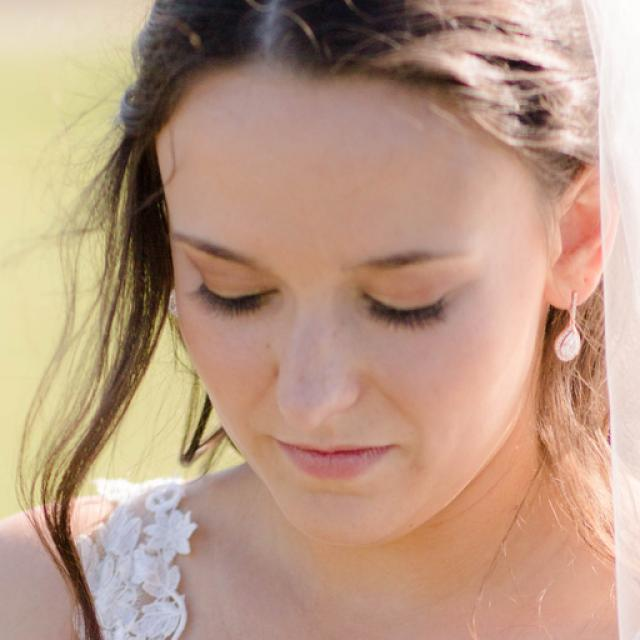sad: (165, 71, 543, 551)
